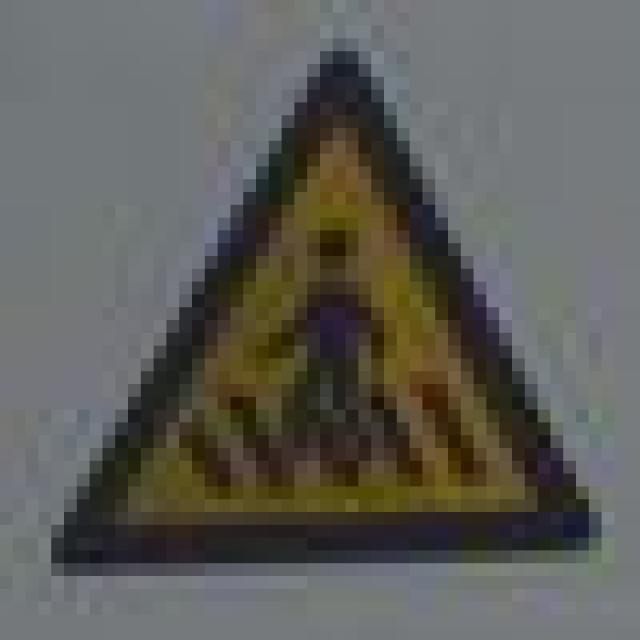pass_either_side: (39, 38, 602, 550)
